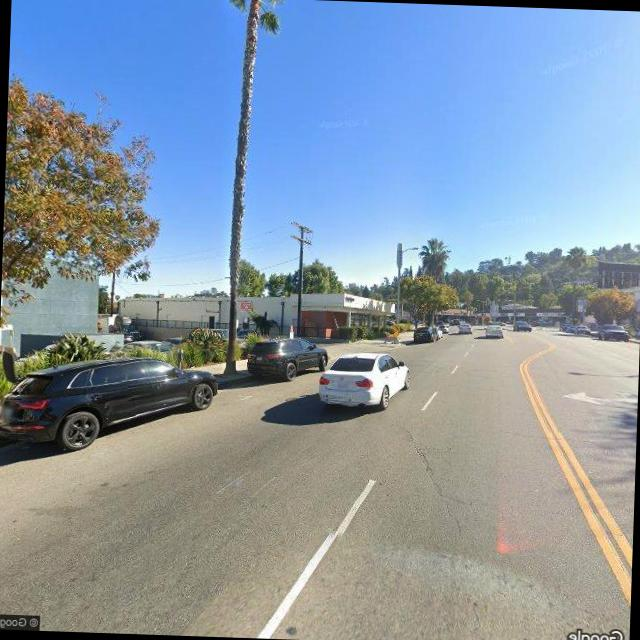pothole: (400, 422, 470, 532)
